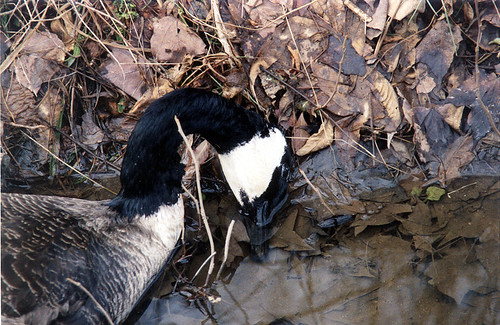animal: (1, 84, 301, 325)
vegetation: (32, 1, 497, 324)
